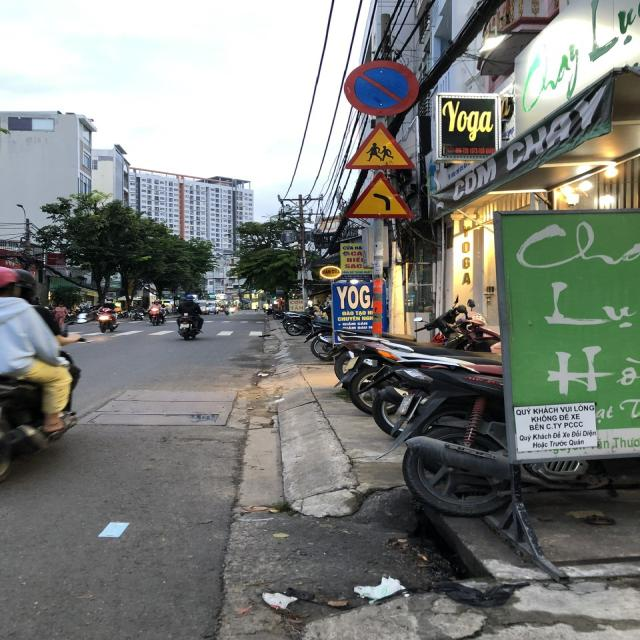Bien bao cam do xe: (342, 58, 422, 115)
Bien bao cho ngoat nguy hiem: (338, 170, 420, 223)
Bien bao tre em: (337, 118, 421, 175)
